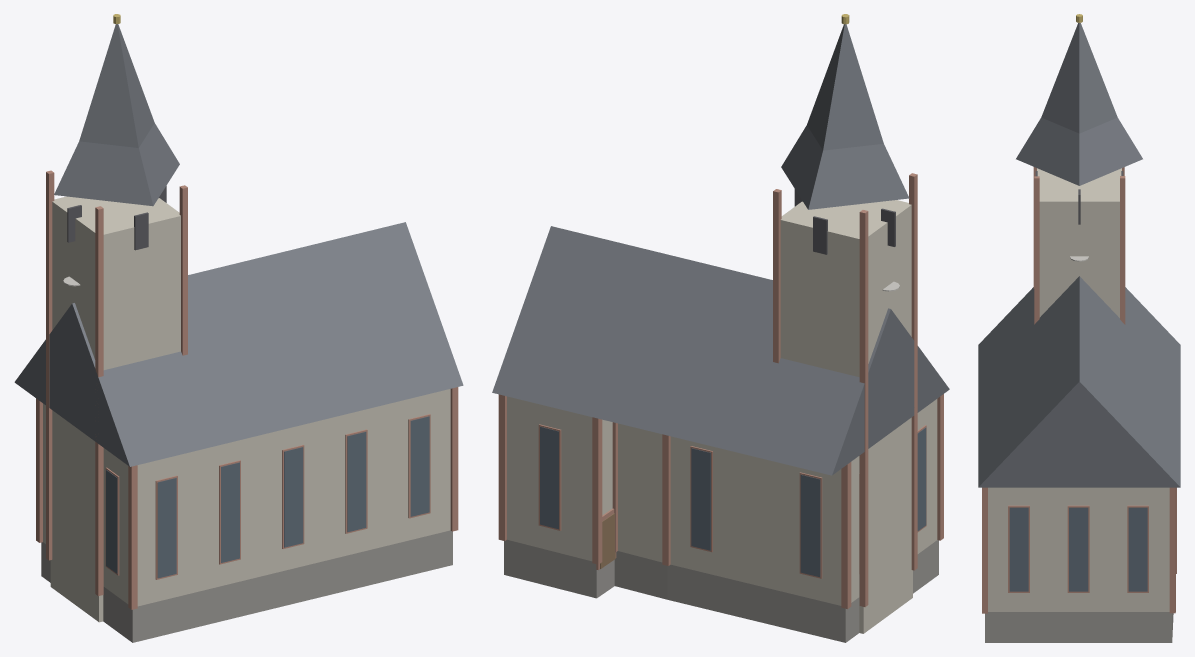
The model's file is landmark-church-evangelische-pfarrkirche-wollbach.glb.
3 renders of one model, left to right at view 1: azimuth 30°, elevation 25°; view 2: azimuth 150°, elevation 25°; view 3: azimuth 270°, elevation 25°, orthographic. The views are drawn at different scales.
Parts seen in each view (by area): view 1: building; view 2: building; view 3: building.
Part boxes in pixels (left/top/right/bottom): building: left=14, top=14, right=463, bottom=642; building: left=492, top=14, right=949, bottom=642; building: left=978, top=14, right=1180, bottom=642.
Bounding box in the file's own units: 26.1 × 41.02 × 14.86.
